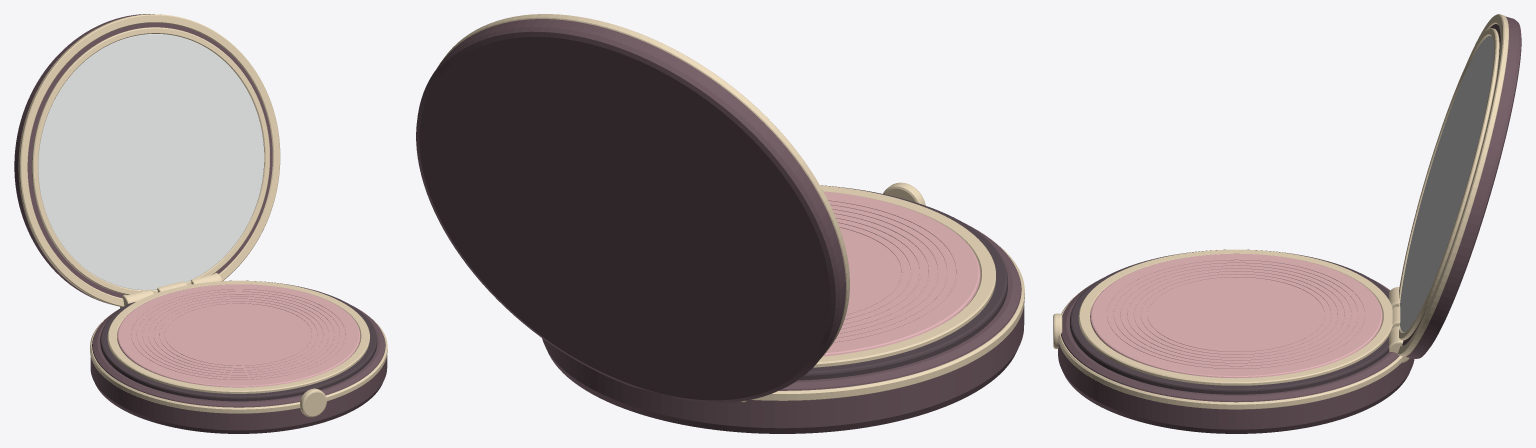
Rendered from glossy-compact.glb.
The picture shows the model from 3 angles, left to right: view 1: azimuth 30°, elevation 25°; view 2: azimuth 150°, elevation 25°; view 3: azimuth 270°, elevation 25°; orthographic projection. The views are drawn at different scales.
Visible parts, largest first — view 1: LidMirror, PowderCake, CompactShell, LidGoldEdge, MirrorBezel, LidLacquer, PowderPanRim, InnerWell, PerimeterTrim, PowderEmboss6, PowderEmboss5, PowderEmboss4 (+5 smaller); view 2: LidLacquer, CompactShell, PowderCake, PowderPanRim, InnerWell, LidGoldEdge, PerimeterTrim, PowderEmboss6, PowderEmboss5; view 3: PowderCake, CompactShell, LidMirror, PowderPanRim, LidLacquer, InnerWell, LidGoldEdge, PerimeterTrim, MirrorBezel, PowderEmboss6, PowderEmboss5, PowderEmboss4 (+4 smaller).
Part boxes in pixels (<box>): LidMirror: <box>38,34,264,290</box>; PowderCake: <box>117,284,360,387</box>; CompactShell: <box>90,306,387,433</box>; LidGoldEdge: <box>18,14,280,307</box>; MirrorBezel: <box>32,27,269,294</box>; LidLacquer: <box>14,14,272,304</box>; PowderPanRim: <box>107,280,369,393</box>; InnerWell: <box>100,280,377,401</box>; PerimeterTrim: <box>90,316,387,413</box>; PowderEmboss6: <box>131,288,346,379</box>; PowderEmboss5: <box>136,291,340,377</box>; PowderEmboss4: <box>142,293,335,375</box>; LidLacquer: <box>416,19,845,402</box>; CompactShell: <box>542,222,1024,433</box>; PowderCake: <box>823,191,980,356</box>; PowderPanRim: <box>813,185,995,367</box>; InnerWell: <box>798,185,1007,380</box>; LidGoldEdge: <box>437,14,849,357</box>; PerimeterTrim: <box>750,240,1024,400</box>; PowderEmboss6: <box>828,199,957,342</box>; PowderEmboss5: <box>830,204,948,338</box>; PowderCake: <box>1090,253,1382,378</box>; CompactShell: <box>1058,279,1414,433</box>; LidMirror: <box>1399,35,1493,332</box>; PowderPanRim: <box>1078,249,1392,385</box>; LidLacquer: <box>1402,16,1521,358</box>; InnerWell: <box>1070,249,1393,394</box>; LidGoldEdge: <box>1398,14,1508,356</box>; PerimeterTrim: <box>1058,290,1402,409</box>; MirrorBezel: <box>1397,28,1499,340</box>; PowderEmboss6: <box>1107,259,1365,368</box>; PowderEmboss5: <box>1113,262,1359,366</box>; PowderEmboss4: <box>1120,265,1352,363</box>.
Bounding box in the file's own units: 0.0692 × 0.0705 × 0.0905.
